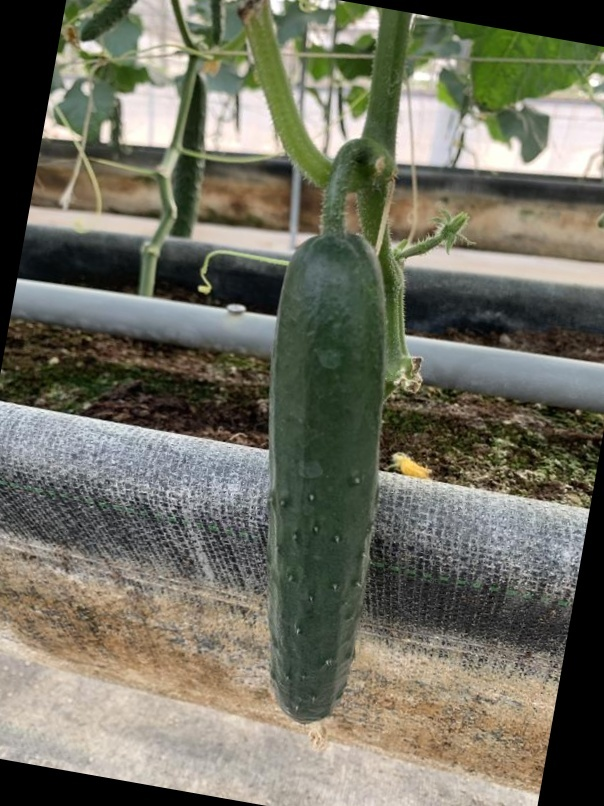mature: (254, 234, 396, 741)
